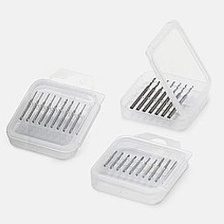plastic_box: (115, 13, 218, 135), (0, 61, 112, 165), (84, 127, 201, 209)
